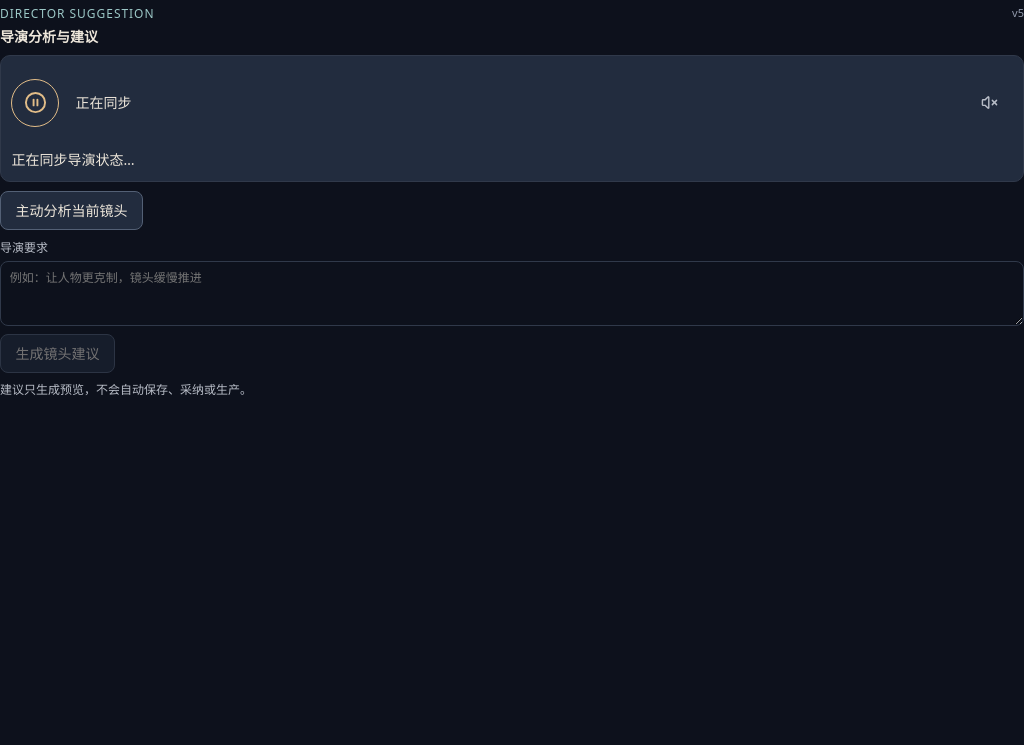
Test: ShotDirectorSuggestionPanel › requests the selected shot, renders old/new diff, and applies only to draft
In the text box labelled "导演要求": x=512, y=293 [0,261,1023,326], type "让情绪更克制，镜头缓慢推进"
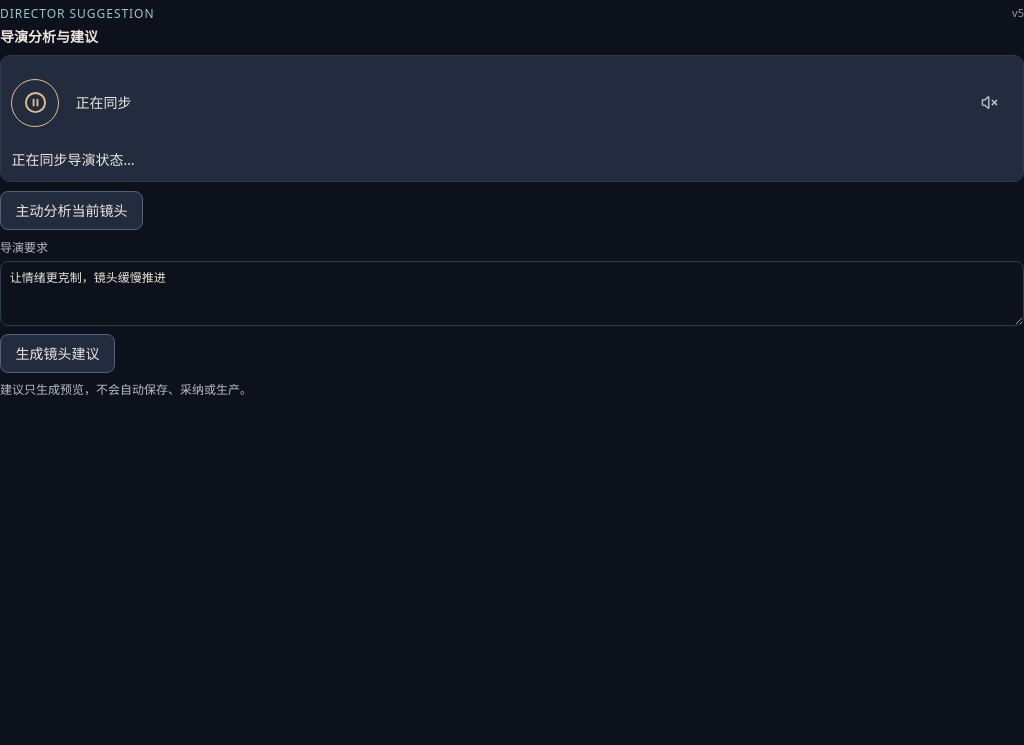
Click the button with test id "request-shot-director-suggestion": x=57, y=354 [0,334,115,373]
(page scrolled)
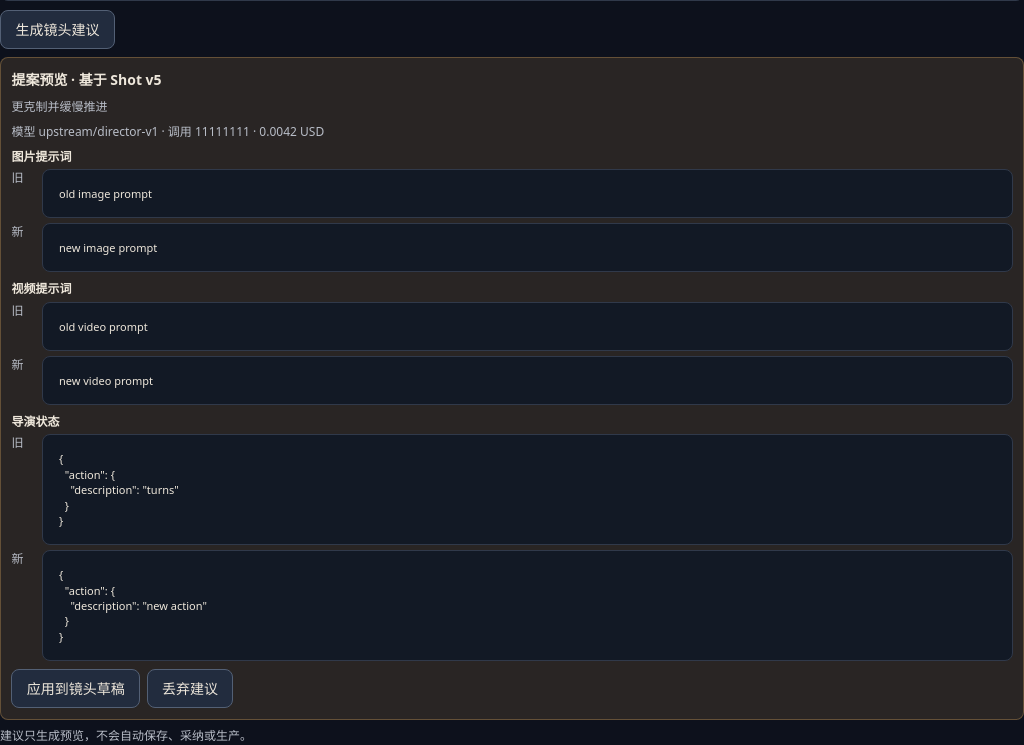
Now the element with test id "shot-director-suggestion-proposal" is shown
Now the text with test id "suggestion-old-image-prompt" reads "old image prompt", box [59,186,152,201]
Now the text with test id "suggestion-new-image-prompt" reads "new image prompt", box [59,240,157,255]
Click the button with test id "apply-shot-director-suggestion": x=76, y=689 [11,669,140,708]
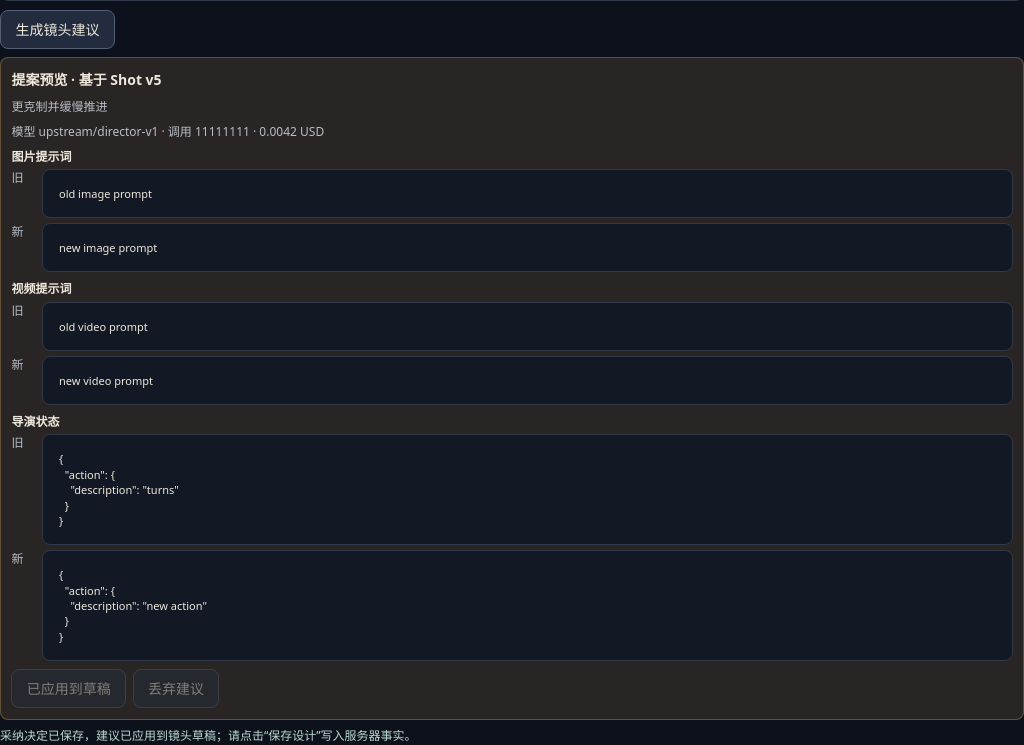
Now the button with test id "apply-shot-director-suggestion" is disabled, box [11,669,126,708]
Now the button with test id "discard-shot-director-suggestion" is disabled, box [133,669,219,708]
